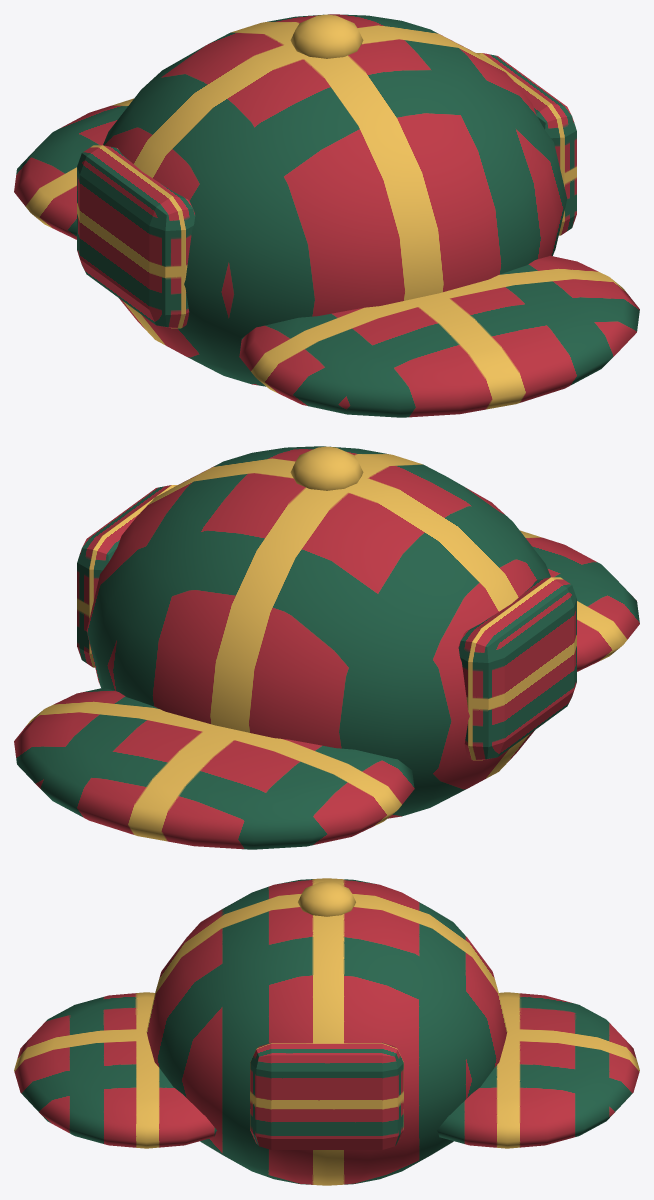
The model's file is ACC_TH_DETECTIVE_Primary.fbx.
The picture shows the model from 3 angles, top to bottom: view 1: azimuth 30°, elevation 25°; view 2: azimuth 150°, elevation 25°; view 3: azimuth 270°, elevation 25°; orthographic projection. The views are drawn at different scales.
Visible parts, largest first — view 1: ACC_TH_DETECTIVE_Primary; view 2: ACC_TH_DETECTIVE_Primary; view 3: ACC_TH_DETECTIVE_Primary.
Part boxes in pixels (x1,y1,x2,y2): ACC_TH_DETECTIVE_Primary: (14, 14, 639, 417); ACC_TH_DETECTIVE_Primary: (14, 446, 639, 849); ACC_TH_DETECTIVE_Primary: (14, 878, 639, 1185).
Size of the model in its own units: 74 by 57.5 by 118.
